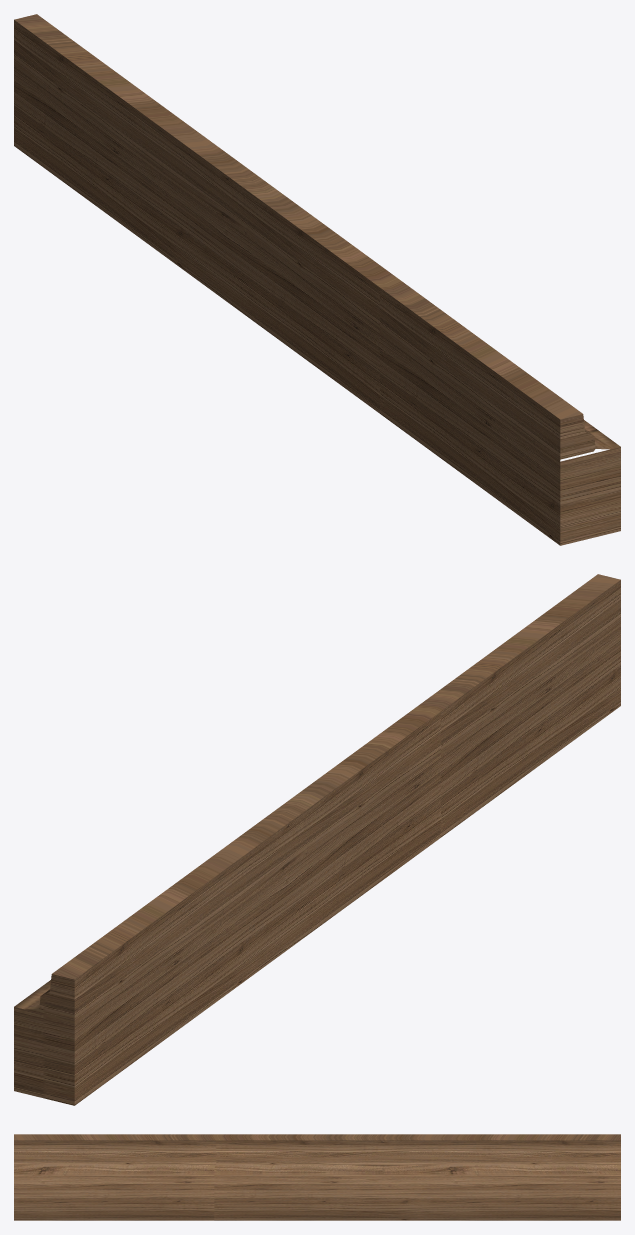
Rendered from souphalftrim003.glb.
The picture shows the model from 3 angles, top to bottom: view 1: azimuth 30°, elevation 25°; view 2: azimuth 150°, elevation 25°; view 3: azimuth 270°, elevation 25°; orthographic projection. The views are drawn at different scales.
Parts seen in each view (by area): view 1: souphalftrim003_high_1; view 2: souphalftrim003_high_1; view 3: souphalftrim003_high_1.
Boxes of the visible parts, x1,y1,x2,y2 form: souphalftrim003_high_1: [14, 14, 620, 545]; souphalftrim003_high_1: [14, 574, 620, 1105]; souphalftrim003_high_1: [14, 1134, 620, 1220].
Bounding box in the file's own units: 0.0861 × 0.1712 × 1.34.
Materials: 1 (1 with a texture image).
